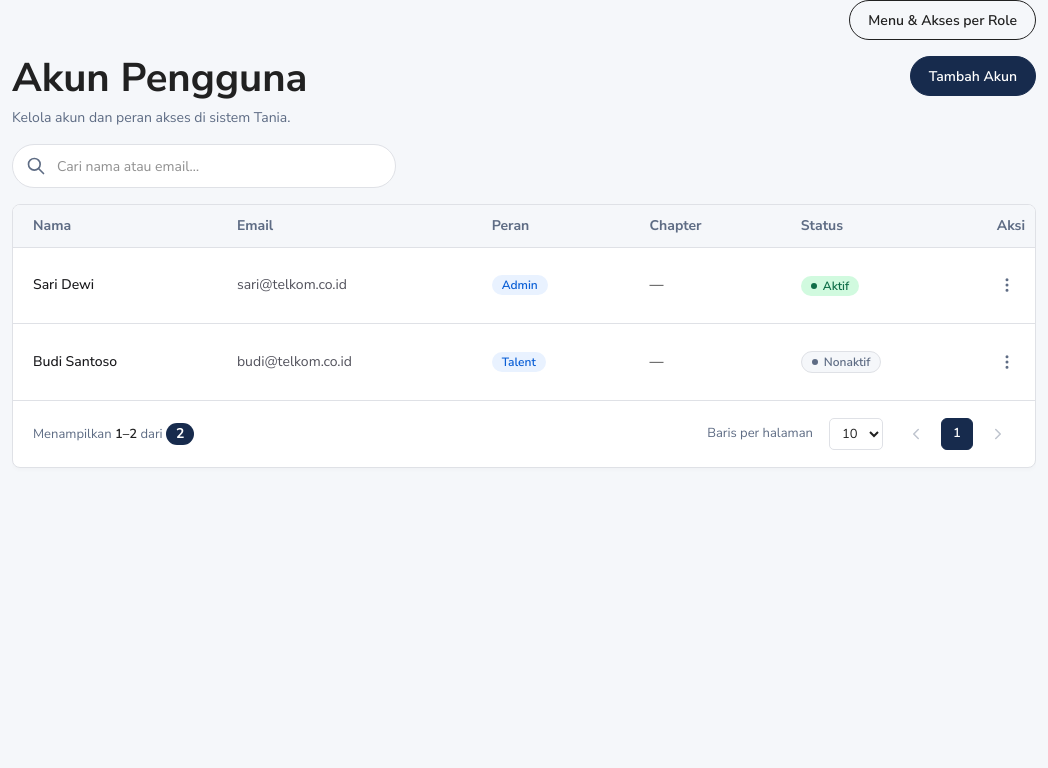
it: accounts management (Admin) — T053 › deactivates an account and shows the success toast
Check: the text "Sari Dewi" is shown, box [13, 248, 217, 324]
Click the button named "Aksi Sari Dewi".
click(1007, 285)  # box [989, 267, 1025, 303]
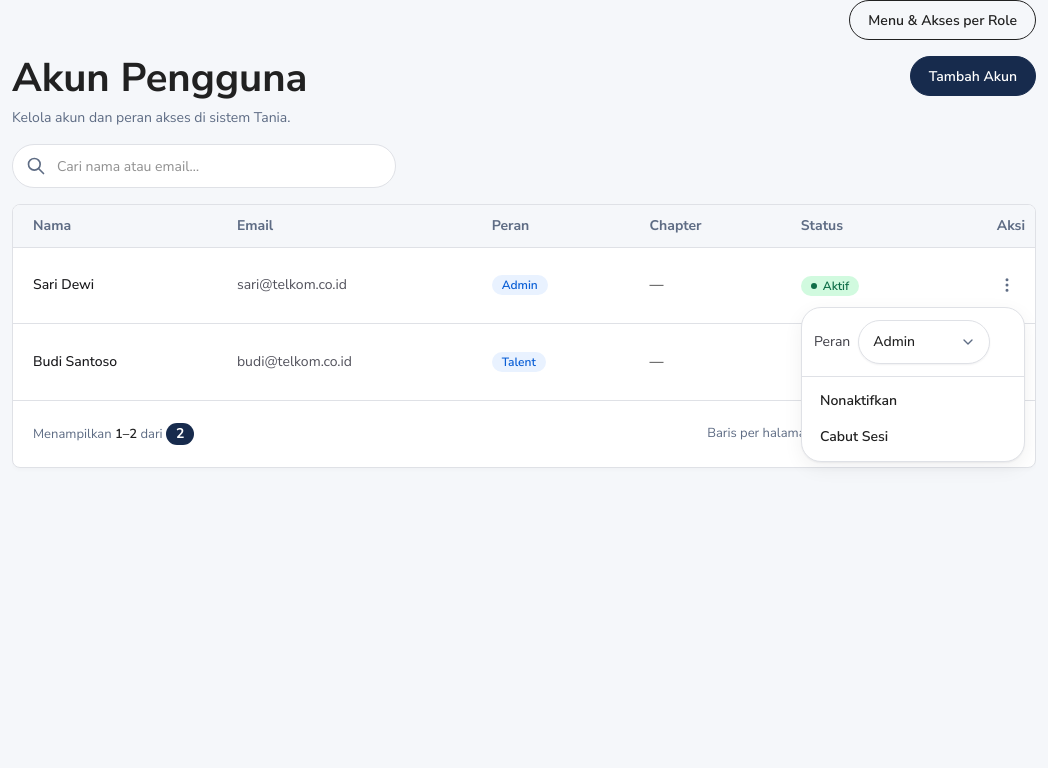
Click the button "Nonaktifkan".
click(913, 401)  # box [808, 383, 1018, 419]
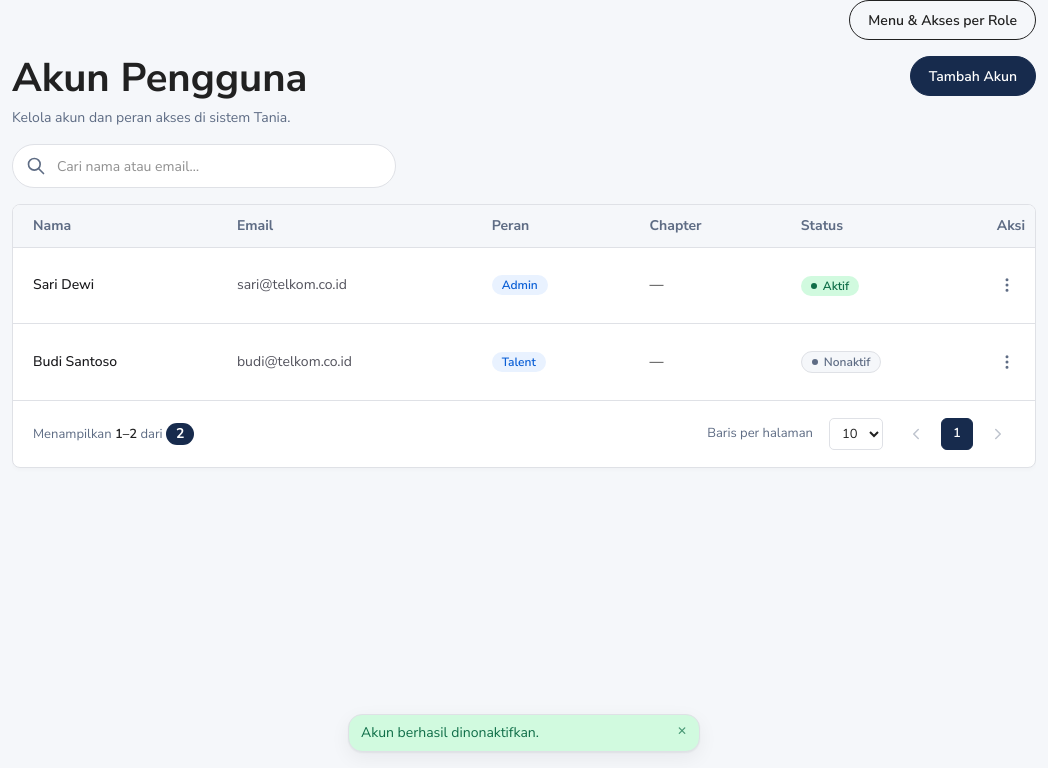
Check: the message shows "Akun berhasil dinonaktifkan.", box [361, 723, 539, 742]
